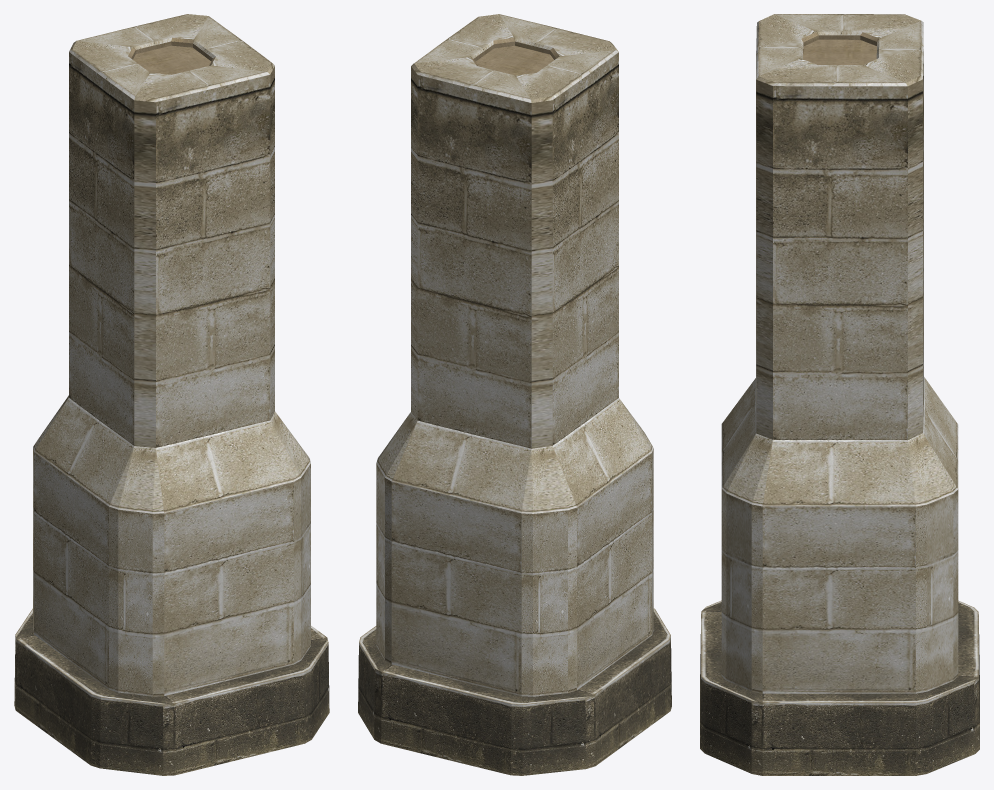
File: pillar.gltf
The picture shows the model from 3 angles, left to right: view 1: azimuth 30°, elevation 25°; view 2: azimuth 150°, elevation 25°; view 3: azimuth 270°, elevation 25°; orthographic projection. The views are drawn at different scales.
Parts seen in each view (by area): view 1: castle-column; view 2: castle-column; view 3: castle-column.
Boxes of the visible parts, x1,y1,x2,y2 form: castle-column: (14, 14, 329, 775); castle-column: (358, 14, 671, 775); castle-column: (700, 14, 979, 775).
Size of the model in its own units: 1.52 by 4 by 1.52.
Materials: 2 (2 with a texture image).
